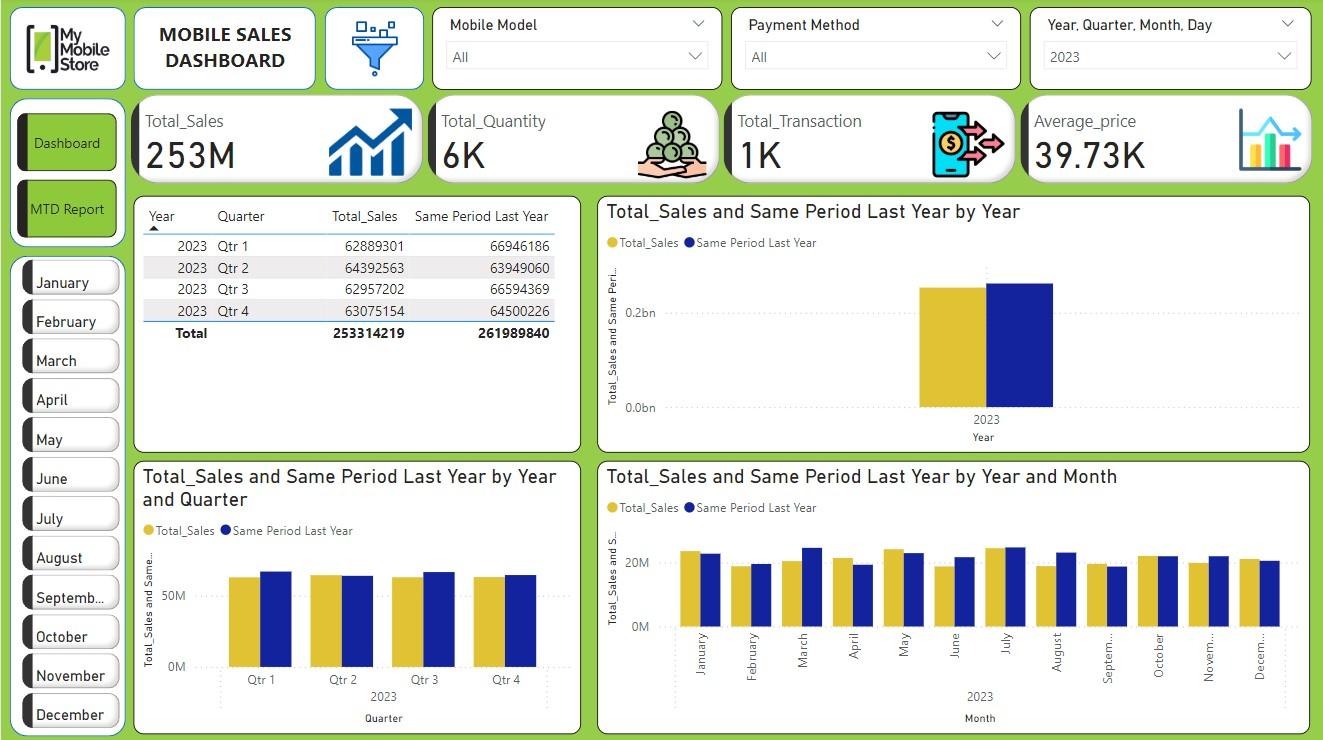

The page's visual inventory and layout, read from the dashboard file:
{"tool":"powerbi","page":{"name":"Same Period Last Year","canvas":[1280,720],"ordinal":2},"visuals":[{"type":"shape","box":[8.5,9.6,112,80],"z":0},{"type":"image","box":[16.5,1.6,96,96],"z":1000},{"type":"shape","box":[8.5,97.6,112,144],"z":2000},{"type":"cardVisual","fields":{"Data":["Mobile_Sales_Data.Total_Sales","Mobile_Sales_Data.Total_Quantity","Mobile_Sales_Data.Total_Transaction","Mobile_Sales_Data.Average_price"]},"box":[120.5,89.6,1152,96],"z":3000},{"type":"slicer","fields":{"Values":["Mobile_Sales_Data.Mobile Model"]},"box":[416.5,9.6,280,80],"z":4000},{"type":"slicer","fields":{"Values":["Mobile_Sales_Data.Payment Method"]},"box":[704.5,9.6,280,80],"z":5000},{"type":"slicer","fields":{"Values":["Custom_Calender.Date.Variation.Date Hierarchy.Year","Custom_Calender.Date.Variation.Date Hierarchy.Quarter","Custom_Calender.Date.Variation.Date Hierarchy.Month","Custom_Calender.Date.Variation.Date Hierarchy.Day"]},"box":[992.5,9.6,272,80],"z":6000},{"type":"shape","box":[312.5,9.6,96,80],"z":7000},{"type":"shape","box":[128.5,9.6,176,80],"z":8000},{"type":"image","box":[296.5,17.6,128,64],"z":9000},{"type":"textbox","box":[136.5,17.6,160,64],"z":10000},{"type":"shape","box":[8.5,249.6,112,464],"z":11000},{"type":"advancedSlicerVisual","fields":{"Values":["Custom_Calender.Date.Variation.Date Hierarchy.Month"]},"box":[16,248,104,464],"z":12000},{"type":"tableEx","fields":{"Values":["Custom_Calender.Date.Variation.Date Hierarchy.Year","Custom_Calender.Date.Variation.Date Hierarchy.Quarter","Mobile_Sales_Data.Total_Sales","Mobile_Sales_Data.Same Period Last Year"]},"box":[128,192,432,248],"z":13000},{"type":"clusteredColumnChart","fields":{"Category":["Custom_Calender.Date.Variation.Date Hierarchy.Year","Custom_Calender.Date.Variation.Date Hierarchy.Quarter"],"Y":["Mobile_Sales_Data.Total_Sales","Mobile_Sales_Data.Same Period Last Year"]},"box":[576,192,688,248],"z":14000},{"type":"clusteredColumnChart","fields":{"Y":["Mobile_Sales_Data.Total_Sales","Mobile_Sales_Data.Same Period Last Year"],"Category":["Custom_Calender.Date.Variation.Date Hierarchy.Year","Custom_Calender.Date.Variation.Date Hierarchy.Month","Custom_Calender.Date.Variation.Date Hierarchy.Day"]},"box":[576,448,688,264],"z":15000},{"type":"clusteredColumnChart","fields":{"Category":["Custom_Calender.Date.Variation.Date Hierarchy.Year","Custom_Calender.Date.Variation.Date Hierarchy.Quarter"],"Y":["Mobile_Sales_Data.Total_Sales","Mobile_Sales_Data.Same Period Last Year"]},"box":[128,448,432,264],"z":16000},{"type":"pageNavigator","box":[16,112,96,120],"z":17000}]}

Visuals, with their boxes in screenshot pixels (x1, y1, x2, y2), scaled from the page's 1280x720 canvas onto the 1323x740 screenshot:
shape: crop(9, 10, 125, 92)
image: crop(17, 2, 116, 100)
shape: crop(9, 100, 125, 248)
cardVisual - Mobile_Sales_Data.Total_Sales x Mobile_Sales_Data.Total_Quantity: crop(125, 92, 1315, 191)
slicer - Mobile_Sales_Data.Mobile Model: crop(430, 10, 720, 92)
slicer - Mobile_Sales_Data.Payment Method: crop(728, 10, 1018, 92)
slicer - Custom_Calender.Date.Variation.Date Hierarchy.Year x Custom_Calender.Date.Variation.Date Hierarchy.Quarter: crop(1026, 10, 1307, 92)
shape: crop(323, 10, 422, 92)
shape: crop(133, 10, 315, 92)
image: crop(306, 18, 439, 84)
textbox: crop(141, 18, 306, 84)
shape: crop(9, 257, 125, 733)
advancedSlicerVisual - Custom_Calender.Date.Variation.Date Hierarchy.Month: crop(17, 255, 124, 732)
tableEx - Custom_Calender.Date.Variation.Date Hierarchy.Year x Custom_Calender.Date.Variation.Date Hierarchy.Quarter: crop(132, 197, 579, 452)
clusteredColumnChart - Custom_Calender.Date.Variation.Date Hierarchy.Year x Custom_Calender.Date.Variation.Date Hierarchy.Quarter: crop(595, 197, 1306, 452)
clusteredColumnChart - Mobile_Sales_Data.Total_Sales x Mobile_Sales_Data.Same Period Last Year: crop(595, 460, 1306, 732)
clusteredColumnChart - Custom_Calender.Date.Variation.Date Hierarchy.Year x Custom_Calender.Date.Variation.Date Hierarchy.Quarter: crop(132, 460, 579, 732)
pageNavigator: crop(17, 115, 116, 238)
